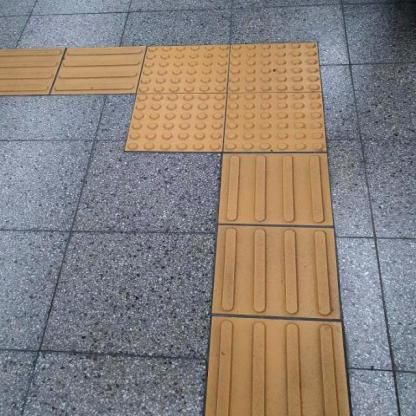podotacti: (104, 27, 359, 204), (205, 153, 350, 415), (0, 43, 136, 94)
